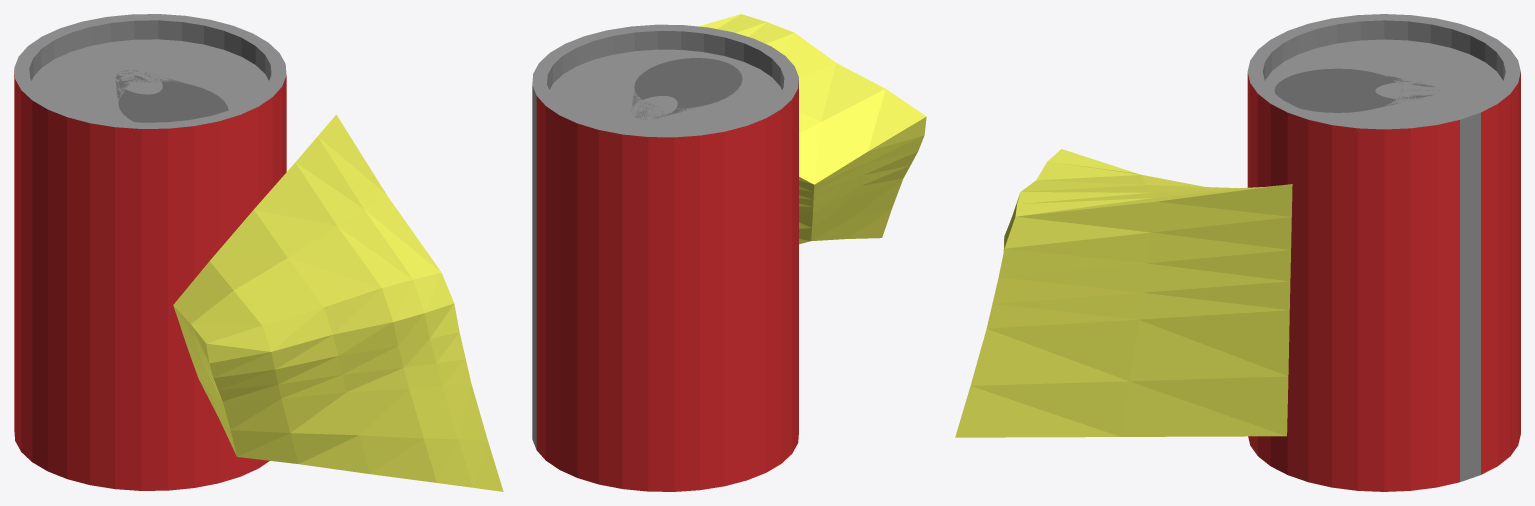
File: Basura.dae
The picture shows the model from 3 angles, left to right: view 1: azimuth 30°, elevation 25°; view 2: azimuth 150°, elevation 25°; view 3: azimuth 270°, elevation 25°; orthographic projection. The views are drawn at different scales.
Parts seen in each view (by area): view 1: Cilindro, Cubo; view 2: Cilindro, Cubo; view 3: Cilindro, Cubo.
Part boxes in pixels (<box>): Cilindro: <box>14,14,286,490</box>; Cubo: <box>173,114,503,491</box>; Cilindro: <box>532,24,798,491</box>; Cubo: <box>698,14,926,244</box>; Cilindro: <box>1247,14,1520,491</box>; Cubo: <box>955,149,1292,437</box>.
Size of the model in its own units: 2.19 by 4.14 by 2.93.
